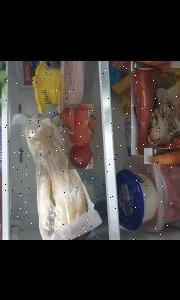Queso: (0, 100, 11, 170)
Tomate: (68, 102, 94, 144), (68, 141, 93, 168), (60, 106, 74, 132)
Tortillas de trigo: (131, 60, 180, 154)
Zanahoria: (144, 146, 180, 162)
